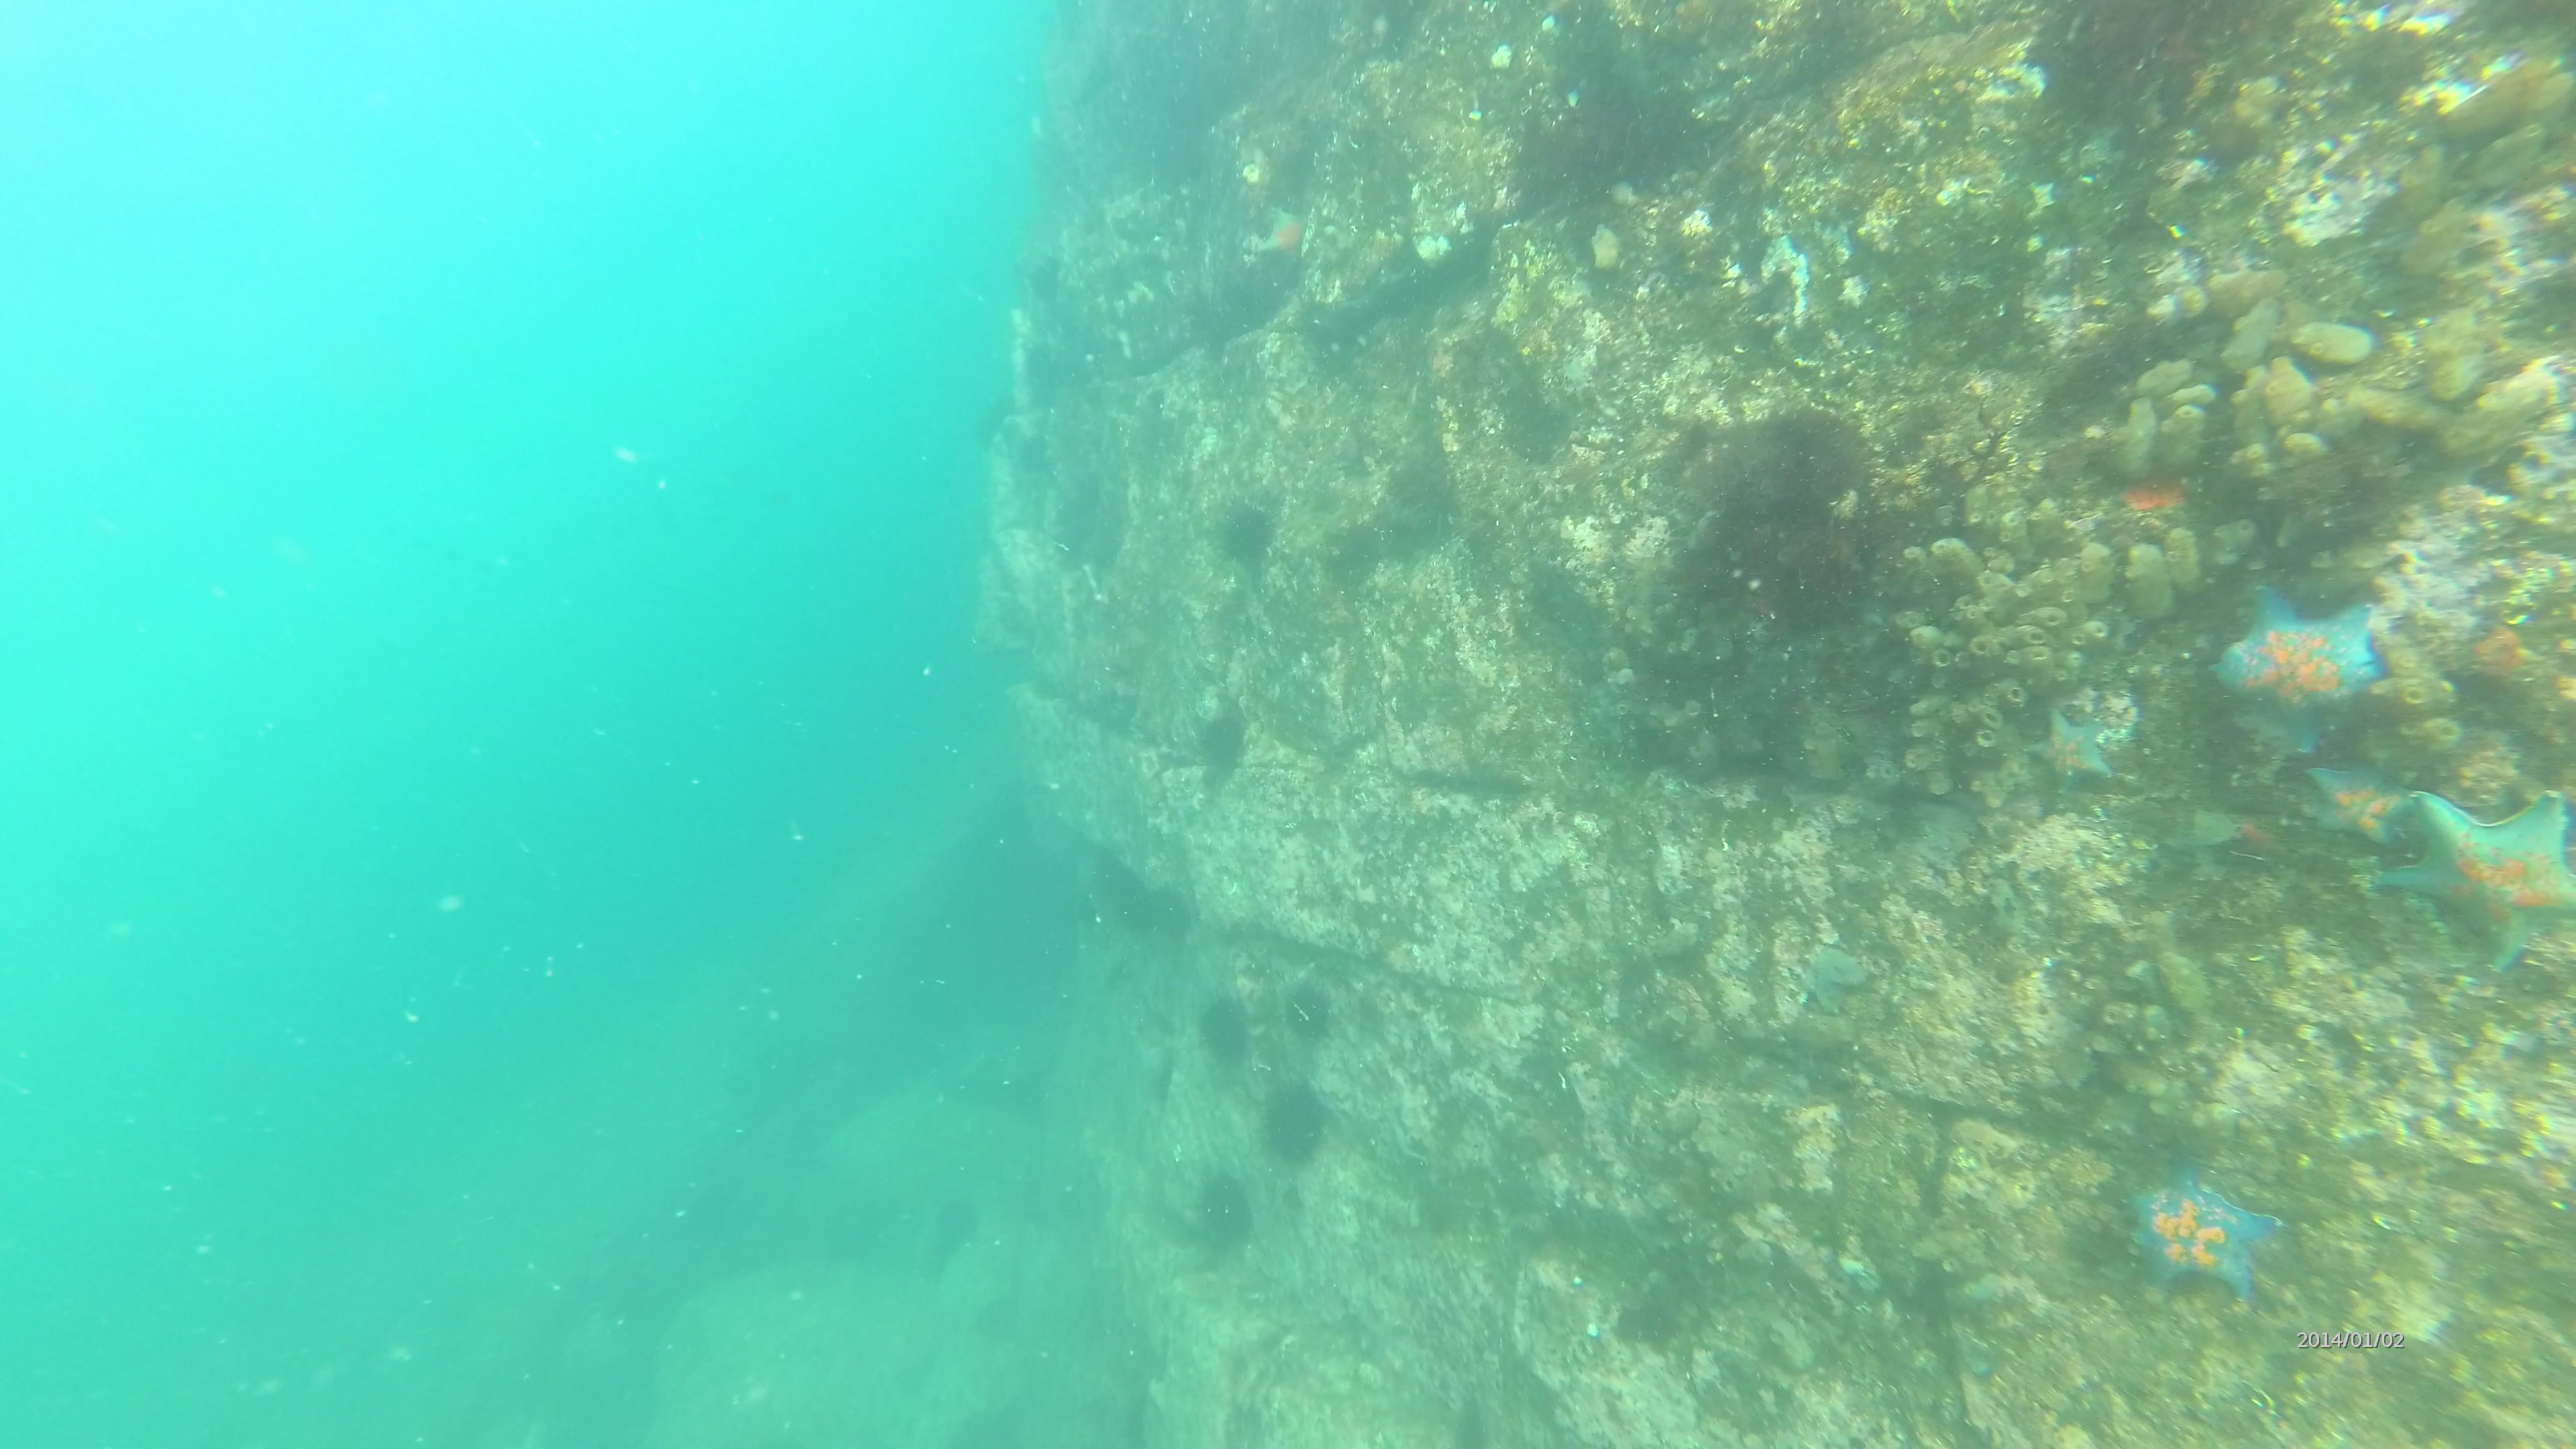echinus: (1261, 1077, 1338, 1162), (1185, 1171, 1261, 1238), (1322, 520, 1385, 596), (1194, 991, 1258, 1058), (1196, 709, 1258, 778), (1219, 506, 1284, 566), (1292, 989, 1339, 1044)
starfish: (2399, 789, 2576, 973), (2224, 580, 2380, 752), (2127, 1161, 2293, 1309), (2304, 764, 2417, 849), (2024, 713, 2135, 794), (1254, 209, 1313, 267)
